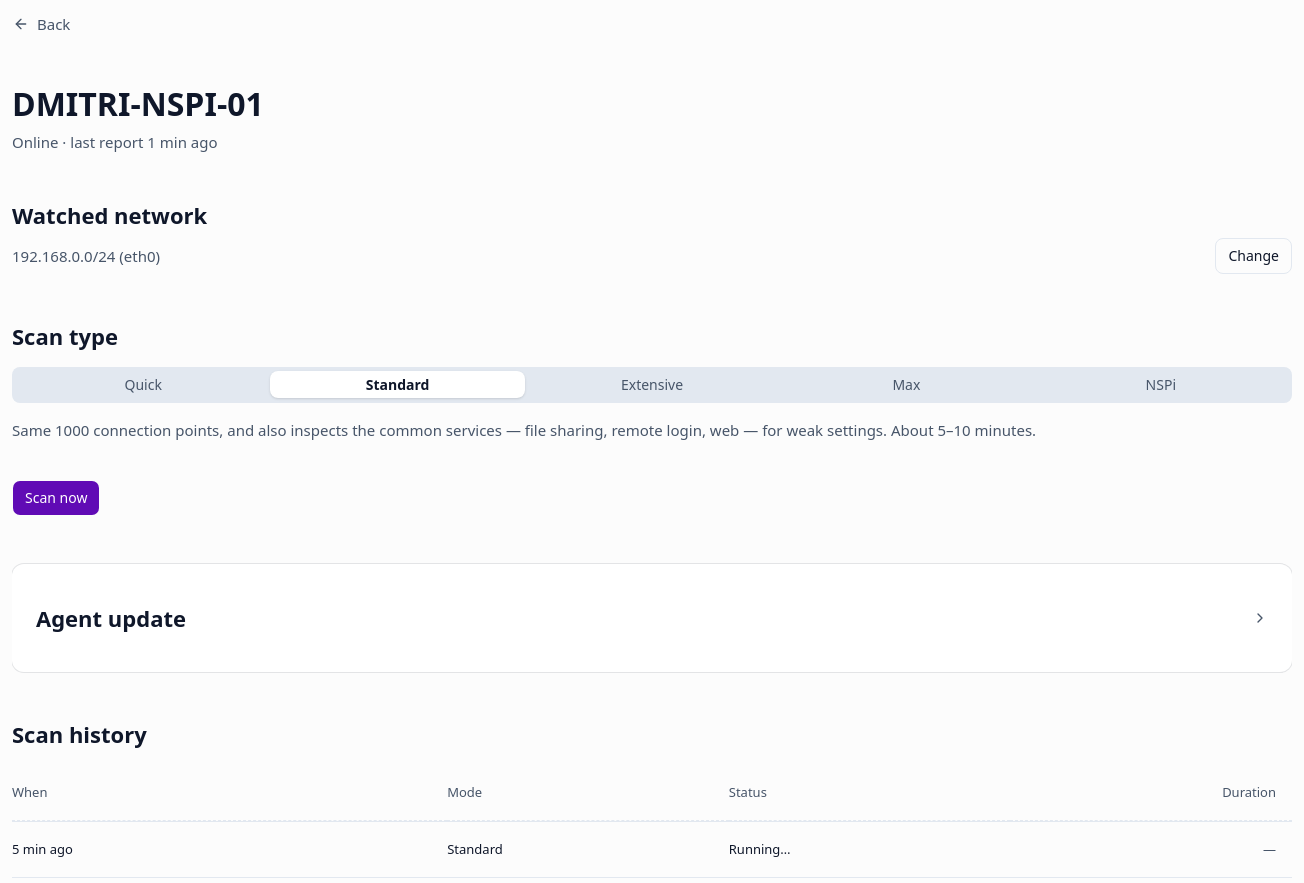
DeviceDetail › A running scan reports where it started
Click the button with test id "agents-scan-now" at point(56, 498), box [12,480,100,516]
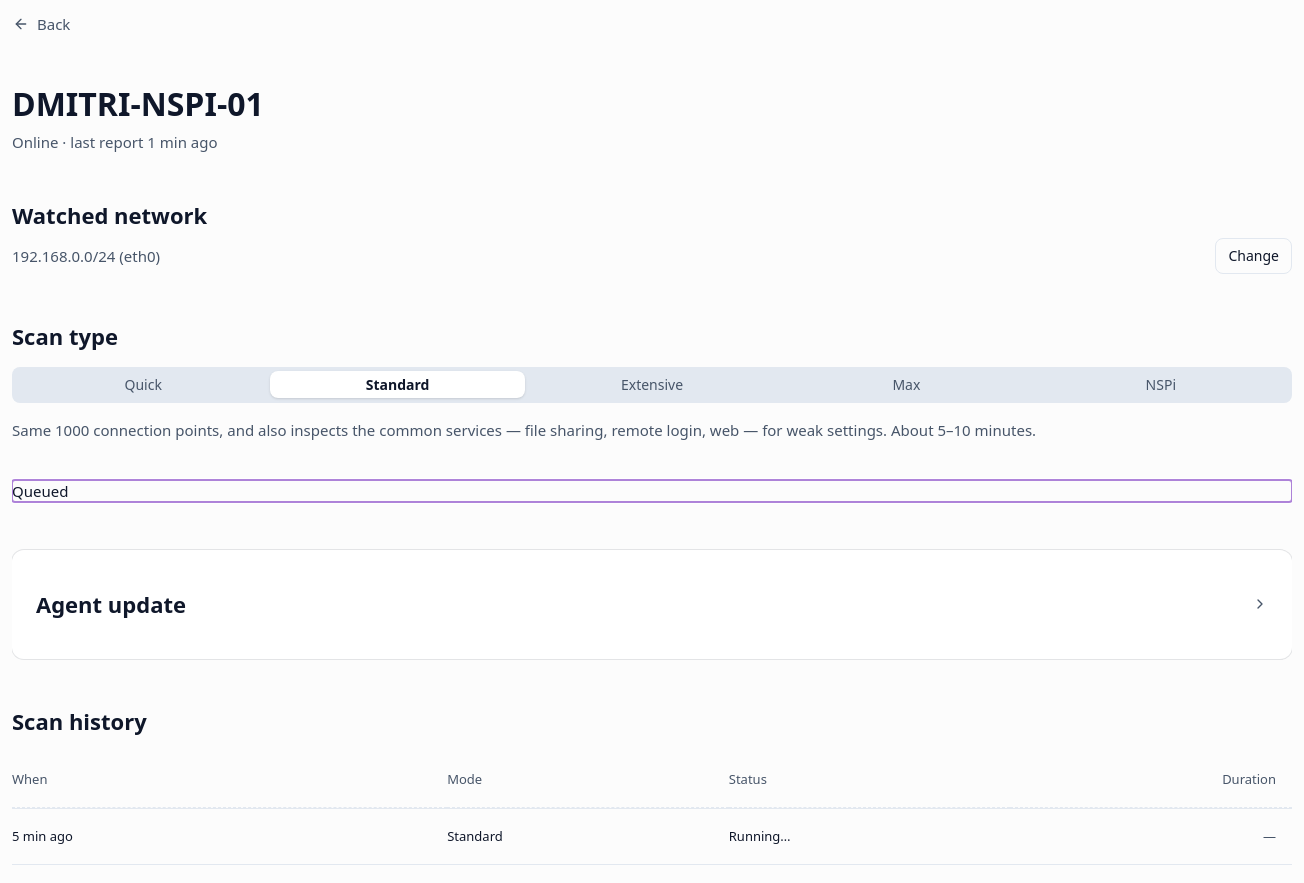
Check: the button with test id "agents-scan-now" is gone
Check: the text "Queued" is shown, box [12,480,68,502]
